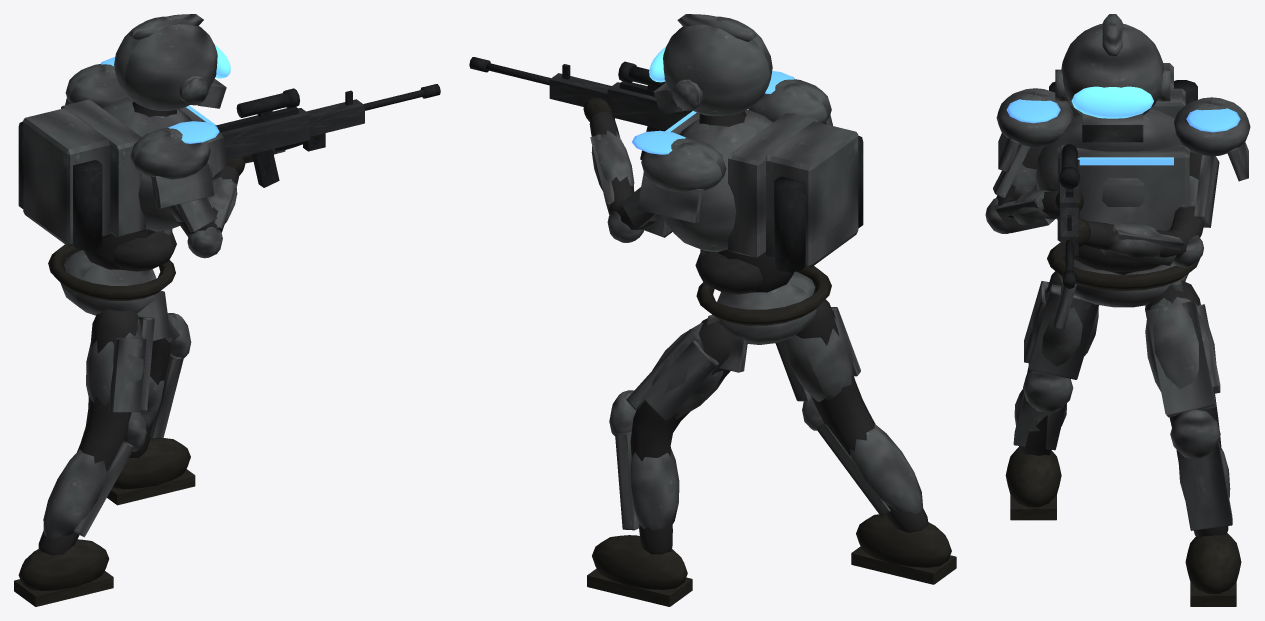
The model's file is unit_odst_1.glb.
The picture shows the model from 3 angles, left to right: view 1: azimuth 30°, elevation 25°; view 2: azimuth 150°, elevation 25°; view 3: azimuth 270°, elevation 25°; orthographic projection. The views are drawn at different scales.
Parts seen in each view (by area): view 1: unit_odst_1; view 2: unit_odst_1; view 3: unit_odst_1.
Boxes of the visible parts, bbox=[...] form: unit_odst_1: bbox=[14, 14, 440, 606]; unit_odst_1: bbox=[469, 14, 956, 606]; unit_odst_1: bbox=[985, 14, 1250, 606].
Bounding box in the file's own units: 1.59 × 1.8 × 0.7873.
Materials: 7 (5 with a texture image).
